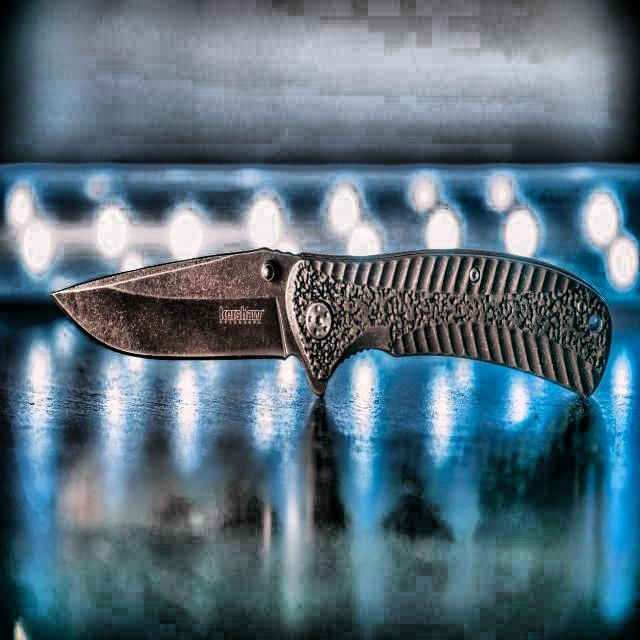knife: (49, 232, 620, 414)
